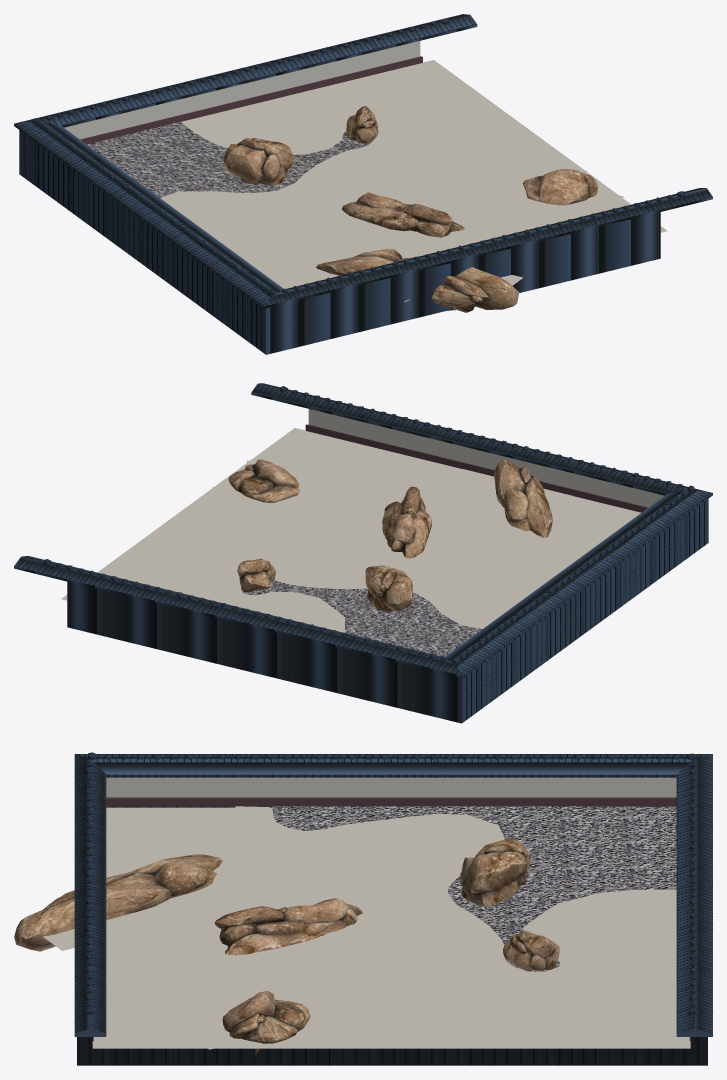
File: Zen-Garden.fbx
3 views of the same model, one above another, from view 1: azimuth 30°, elevation 25°; view 2: azimuth 150°, elevation 25°; view 3: azimuth 270°, elevation 25° (orthographic). The views are drawn at different scales.
Parts seen in each view (by area): view 1: Plane.002, Plane, RockForm02_LP, RockForm01_LP, RockForm02_LP.003, RockForm02_LP.002, RockForm02_LP.001; view 2: Plane.002, Plane, RockForm02_LP, RockForm01_LP, RockForm02_LP.002, RockForm02_LP.003, RockForm02_LP.001; view 3: Plane.002, Plane, RockForm02_LP, RockForm01_LP, RockForm02_LP.003, RockForm02_LP.002, RockForm02_LP.001.
Part boxes in pixels (x1=…): Plane.002: x1=14, y1=14, x2=712, y2=354; Plane: x1=161, y1=116, x2=623, y2=301; RockForm02_LP: x1=316, y1=248, x2=519, y2=312; RockForm01_LP: x1=342, y1=192, x2=465, y2=237; RockForm02_LP.003: x1=223, y1=137, x2=294, y2=185; RockForm02_LP.002: x1=522, y1=169, x2=597, y2=205; RockForm02_LP.001: x1=346, y1=106, x2=378, y2=144; Plane.002: x1=14, y1=383, x2=712, y2=723; Plane: x1=211, y1=460, x2=581, y2=632; RockForm02_LP: x1=494, y1=460, x2=552, y2=538; RockForm01_LP: x1=382, y1=486, x2=431, y2=558; RockForm02_LP.002: x1=228, y1=459, x2=299, y2=502; RockForm02_LP.003: x1=365, y1=565, x2=412, y2=612; RockForm02_LP.001: x1=237, y1=558, x2=275, y2=592; Plane.002: x1=74, y1=752, x2=712, y2=1065; Plane: x1=43, y1=806, x2=676, y2=1049; RockForm02_LP: x1=14, y1=854, x2=222, y2=951; RockForm01_LP: x1=214, y1=898, x2=362, y2=955; RockForm02_LP.003: x1=459, y1=838, x2=530, y2=906; RockForm02_LP.002: x1=222, y1=991, x2=310, y2=1054; RockForm02_LP.001: x1=503, y1=930, x2=559, y2=971.
Bounding box in the file's own units: 2595 × 370 × 2738.
8 materials, 6 textured.
